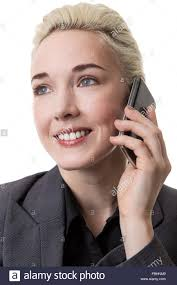phone: (119, 72, 158, 169)
talk: (32, 62, 173, 216)
